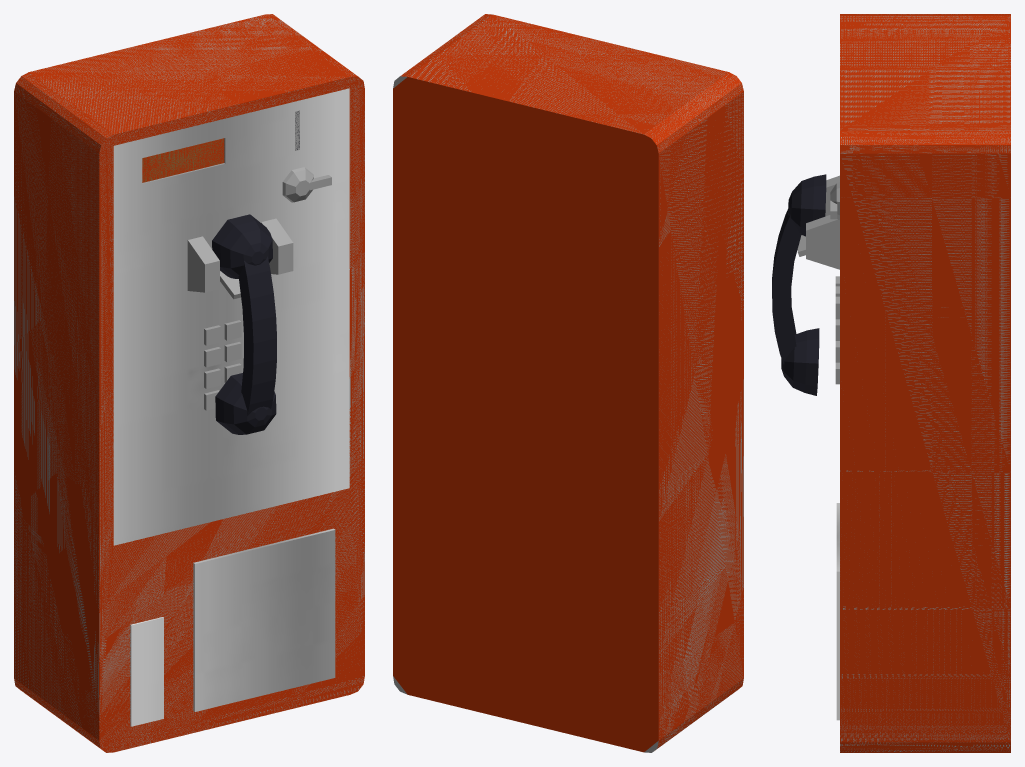
Rendered from Red_Payphone.fbx.
3 renders of one model, left to right at view 1: azimuth 30°, elevation 25°; view 2: azimuth 150°, elevation 25°; view 3: azimuth 270°, elevation 25°, orthographic.
Visible parts, largest first — view 1: Component_1_1, Component_8_1, Component_5_1, skp5928_1, Component_7_1, Component_7_2, Component_4_1; view 2: skp5928_1, Component_1_1; view 3: Component_1_1, Component_5_1, Component_7_2, Component_8_1.
Boxes of the visible parts, x1=… form: Component_1_1: x1=14, y1=14, x2=364, y2=752; Component_8_1: x1=130, y1=528, x2=335, y2=726; Component_5_1: x1=212, y1=214, x2=276, y2=434; skp5928_1: x1=142, y1=138, x2=224, y2=182; Component_7_1: x1=187, y1=236, x2=219, y2=292; Component_7_2: x1=261, y1=218, x2=293, y2=274; Component_4_1: x1=282, y1=167, x2=331, y2=202; skp5928_1: x1=393, y1=77, x2=658, y2=752; Component_1_1: x1=393, y1=14, x2=743, y2=752; Component_1_1: x1=840, y1=14, x2=1010, y2=752; Component_5_1: x1=772, y1=174, x2=826, y2=395; Component_7_2: x1=806, y1=215, x2=839, y2=269; Component_8_1: x1=836, y1=503, x2=839, y2=720.
Size of the model in its own units: 0.2286 by 0.508 by 0.1775.
6 materials, 2 textured.
